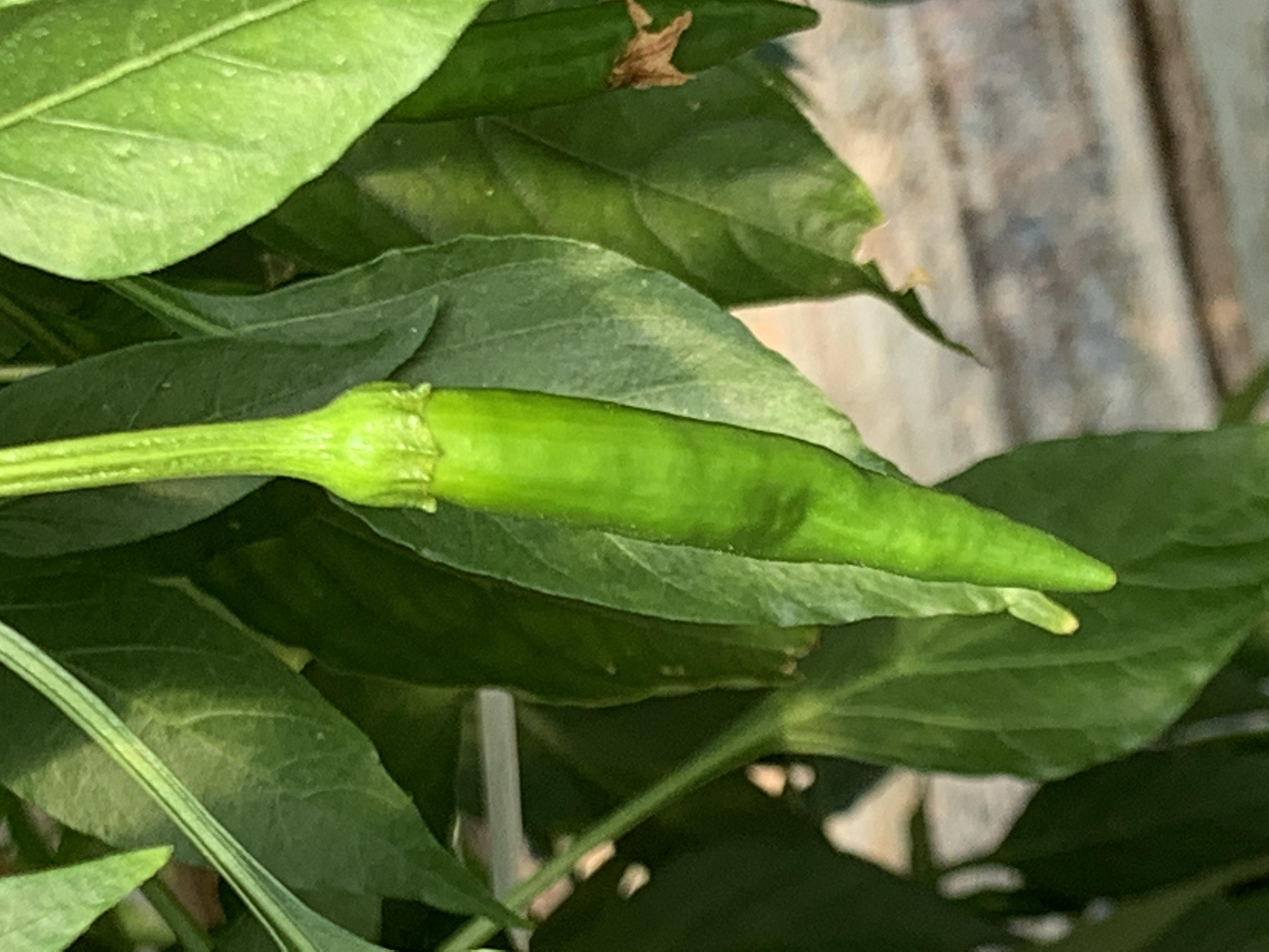Buah Cabai Sehat: (3, 375, 1121, 638)
Daun Cabai Sehat: (0, 0, 499, 290)
